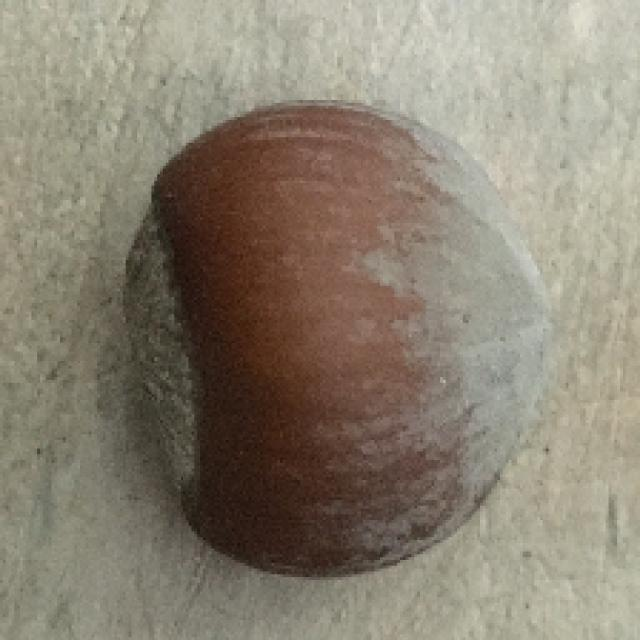qualityHazelnut: (125, 88, 556, 585)
